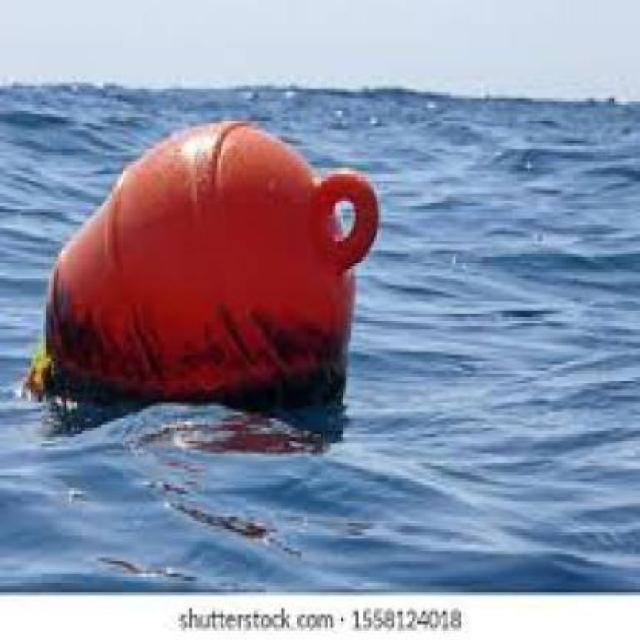a: (9, 115, 390, 419)
